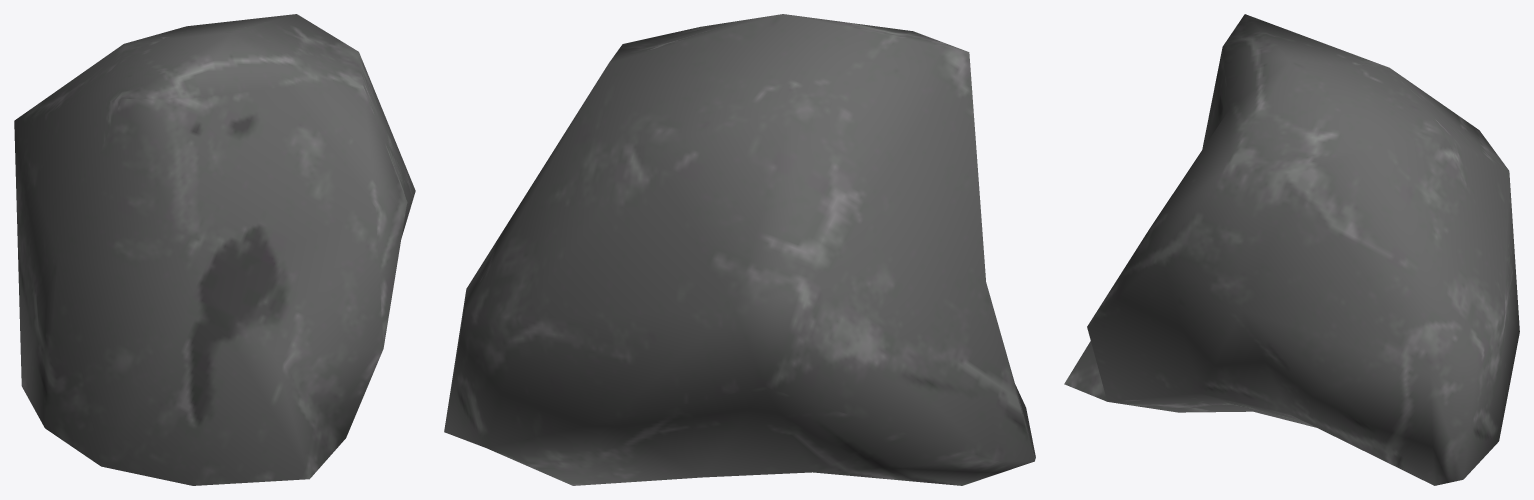
File: rockLarge.fbx
The picture shows the model from 3 angles, left to right: view 1: azimuth 30°, elevation 25°; view 2: azimuth 150°, elevation 25°; view 3: azimuth 270°, elevation 25°; orthographic projection. The views are drawn at different scales.
Visible parts, largest first — view 1: rockLarge; view 2: rockLarge; view 3: rockLarge.
Part boxes in pixels (x1=…): rockLarge: x1=14, y1=14, x2=415, y2=485; rockLarge: x1=444, y1=14, x2=1035, y2=485; rockLarge: x1=1064, y1=14, x2=1519, y2=485.
Size of the model in its own units: 2.42 by 2.2 by 2.45.
1 material, 1 textured.
